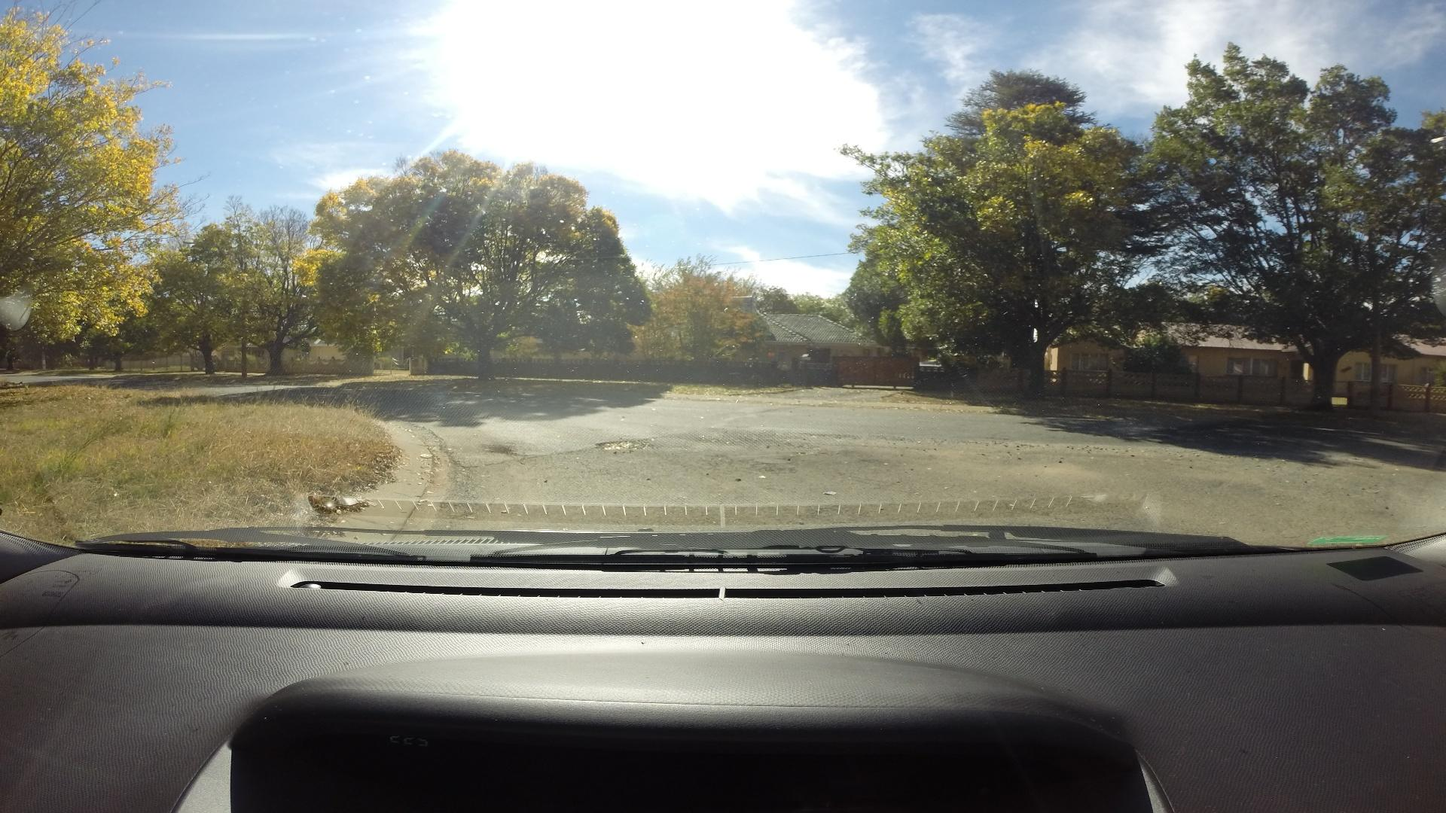pothole: (594, 438, 652, 452), (484, 443, 516, 455)
